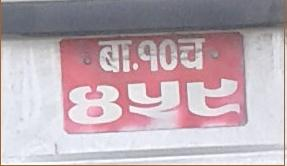0: (158, 37, 179, 73)
1: (137, 39, 160, 74)
4: (66, 82, 125, 126)
5: (125, 79, 183, 124)
9: (183, 75, 242, 121)
ba: (96, 38, 136, 77)
cha: (178, 35, 208, 73)
